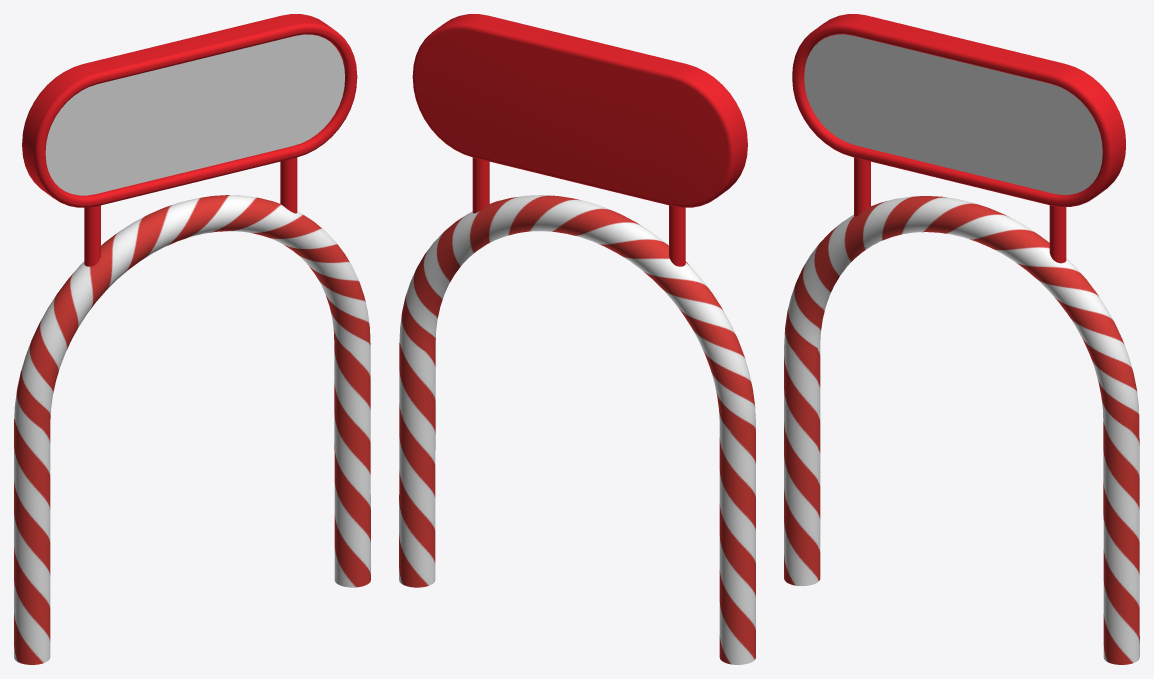
Rendered from CandyDoor.fbx.
3 renders of one model, left to right at view 1: azimuth 30°, elevation 25°; view 2: azimuth 150°, elevation 25°; view 3: azimuth 330°, elevation 25°, orthographic.
Visible parts, largest first — view 1: Cylinder.007; view 2: Cylinder.007; view 3: Cylinder.007.
Boxes of the visible parts, x1,y1,x2,y2 form: Cylinder.007: (14, 14, 370, 664); Cylinder.007: (399, 14, 755, 664); Cylinder.007: (784, 14, 1139, 664).
Size of the model in its own units: 2686 by 4193 by 240.
3 materials, 1 textured.
